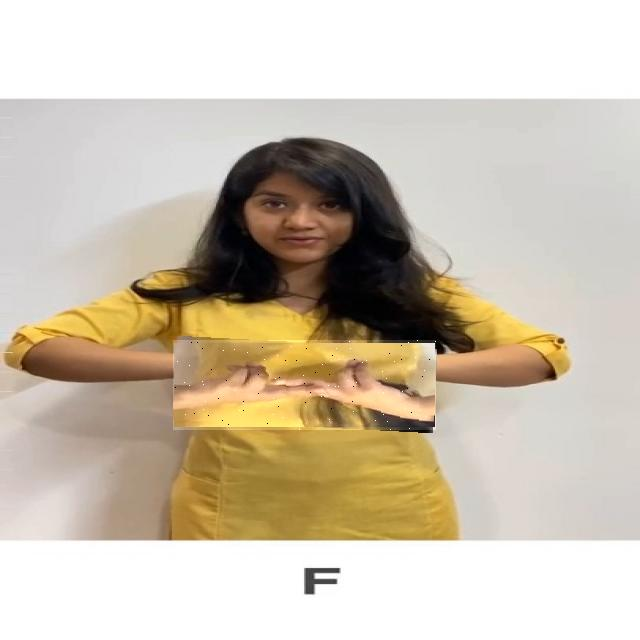F: (173, 340, 436, 430)
